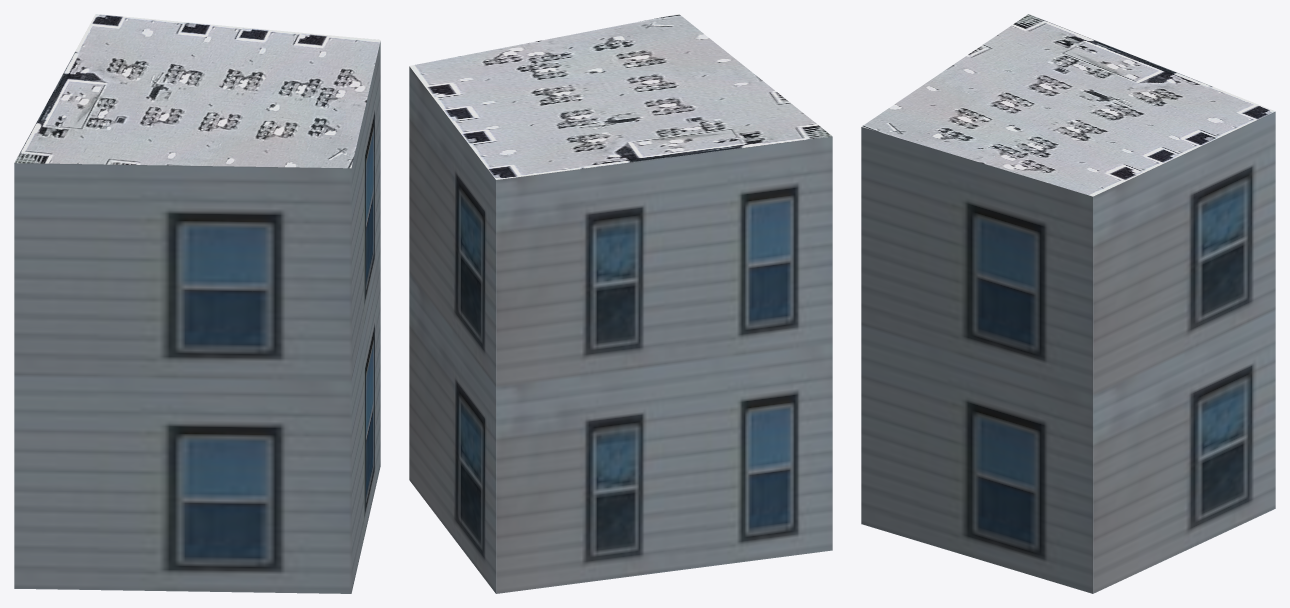
File: ResTex__846.fbx
3 views of the same model, side by side, from view 1: azimuth 30°, elevation 25°; view 2: azimuth 150°, elevation 25°; view 3: azimuth 270°, elevation 25° (orthographic). The views are drawn at different scales.
Visible parts, largest first — view 1: CityEngineMaterial_18_m, CityEngineMaterial_m; view 2: CityEngineMaterial_18_m, CityEngineMaterial_m; view 3: CityEngineMaterial_18_m, CityEngineMaterial_m.
Boxes of the visible parts, bbox=[...] form: CityEngineMaterial_18_m: bbox=[14, 41, 380, 593]; CityEngineMaterial_m: bbox=[14, 14, 380, 168]; CityEngineMaterial_18_m: bbox=[409, 66, 832, 593]; CityEngineMaterial_m: bbox=[409, 14, 832, 179]; CityEngineMaterial_18_m: bbox=[861, 111, 1275, 593]; CityEngineMaterial_m: bbox=[861, 14, 1275, 196].
Size of the model in its own units: 5.92 by 6 by 5.67.
2 materials, 2 textured.
